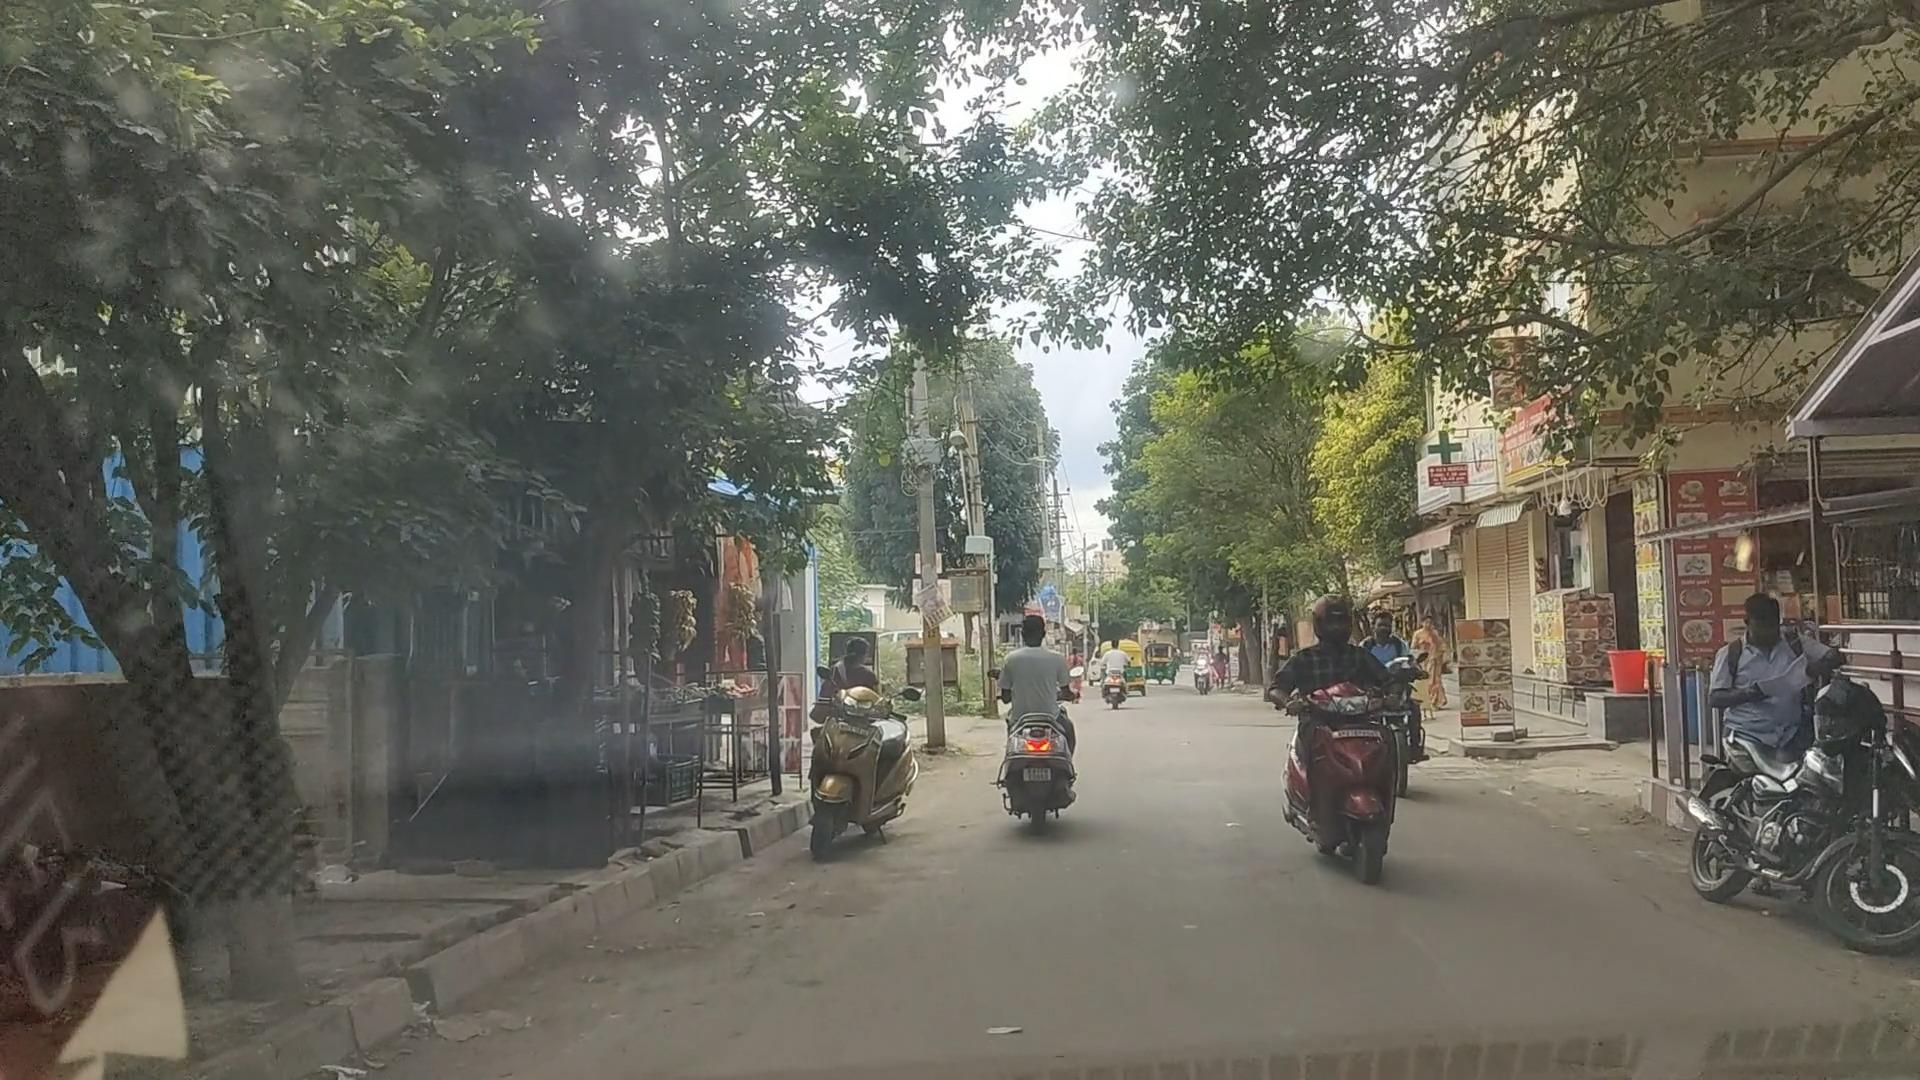LMV: (1688, 580, 1915, 928), (1265, 585, 1427, 890), (968, 596, 1087, 864), (794, 659, 922, 876)
